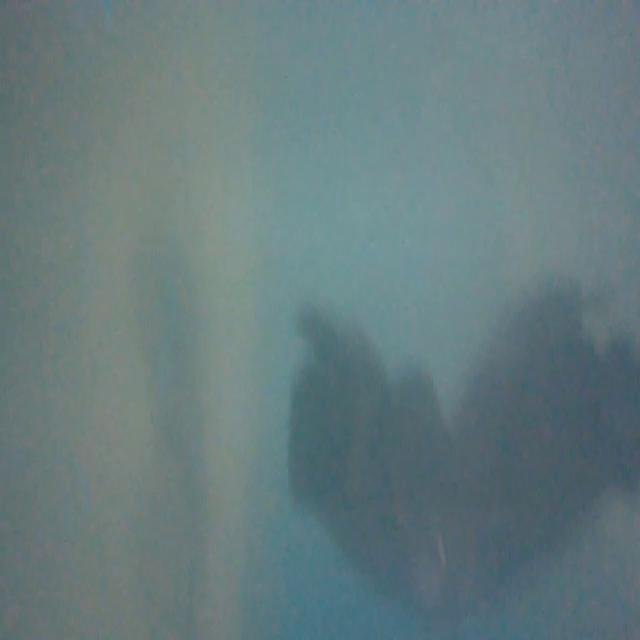plastic bags: (280, 286, 640, 614)
